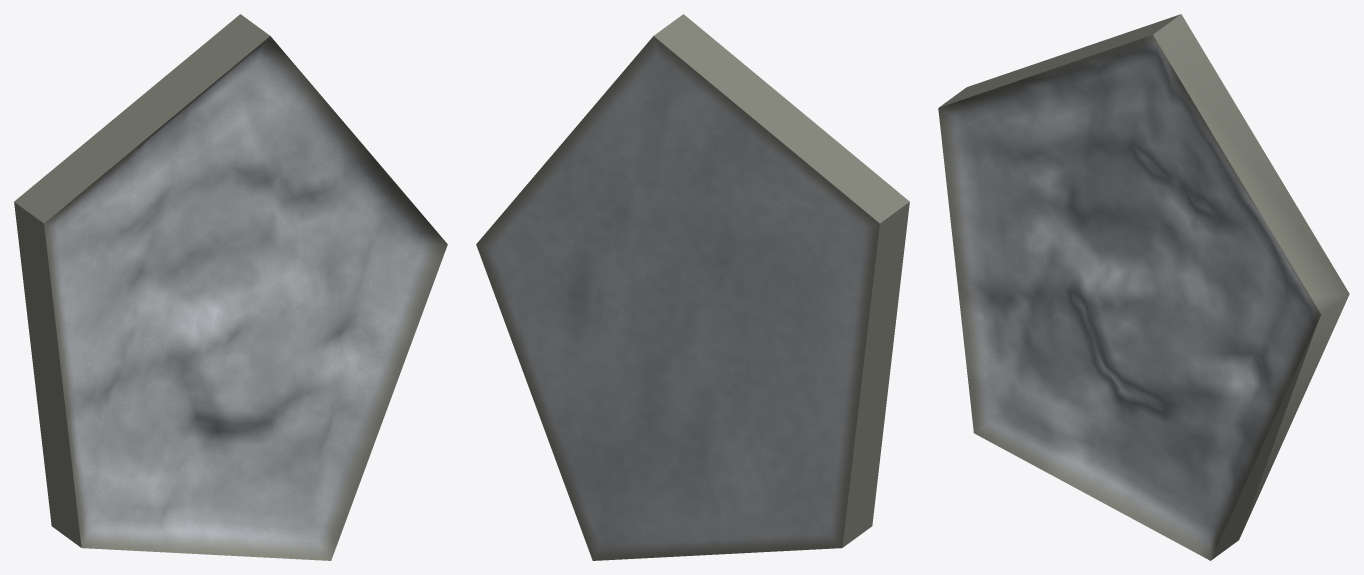
File: wall-lod2.glb
3 views of the same model, side by side, from view 1: azimuth 30°, elevation 25°; view 2: azimuth 150°, elevation 25°; view 3: azimuth 330°, elevation 25° (orthographic). The views are drawn at different scales.
Parts seen in each view (by area): view 1: Wall_LOD2; view 2: Wall_LOD2; view 3: Wall_LOD2.
Boxes of the visible parts, x1,y1,x2,y2 form: Wall_LOD2: (14,14,447,560); Wall_LOD2: (476,14,909,560); Wall_LOD2: (938,14,1349,560).
Size of the model in its own units: 15.57 by 19.89 by 2.
Materials: 1 (1 with a texture image).
